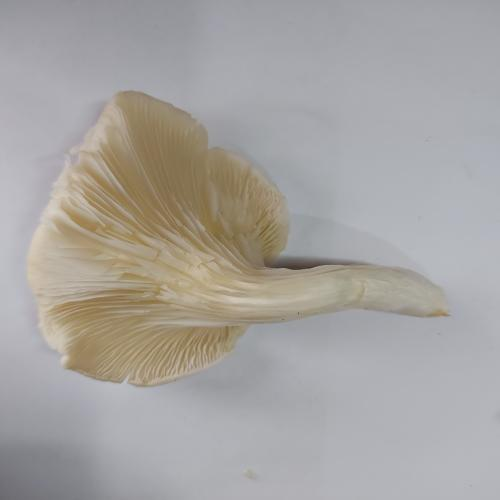Oyster Mushroom: (25, 89, 450, 388)
